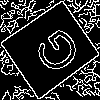G: (25, 24, 84, 84)
